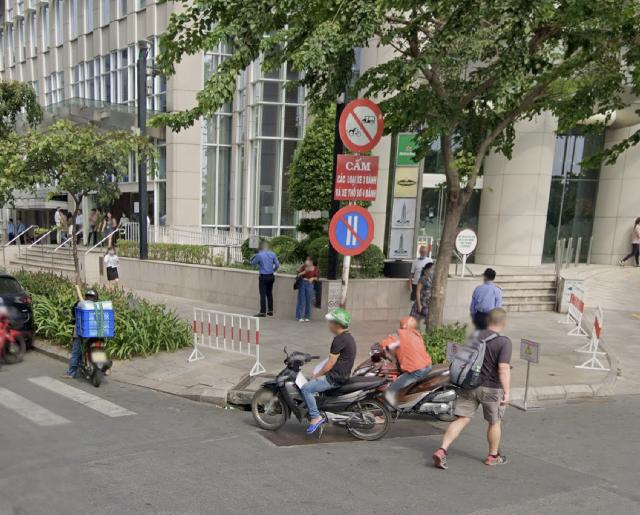131c-cam-do-xe-ngay-chan: (328, 205, 375, 256)
